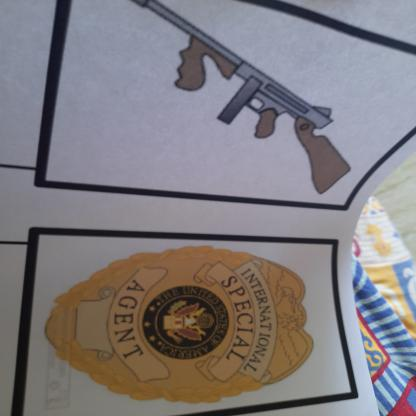Bootlegger: (89, 1, 363, 205)
G-man: (25, 235, 348, 413)
